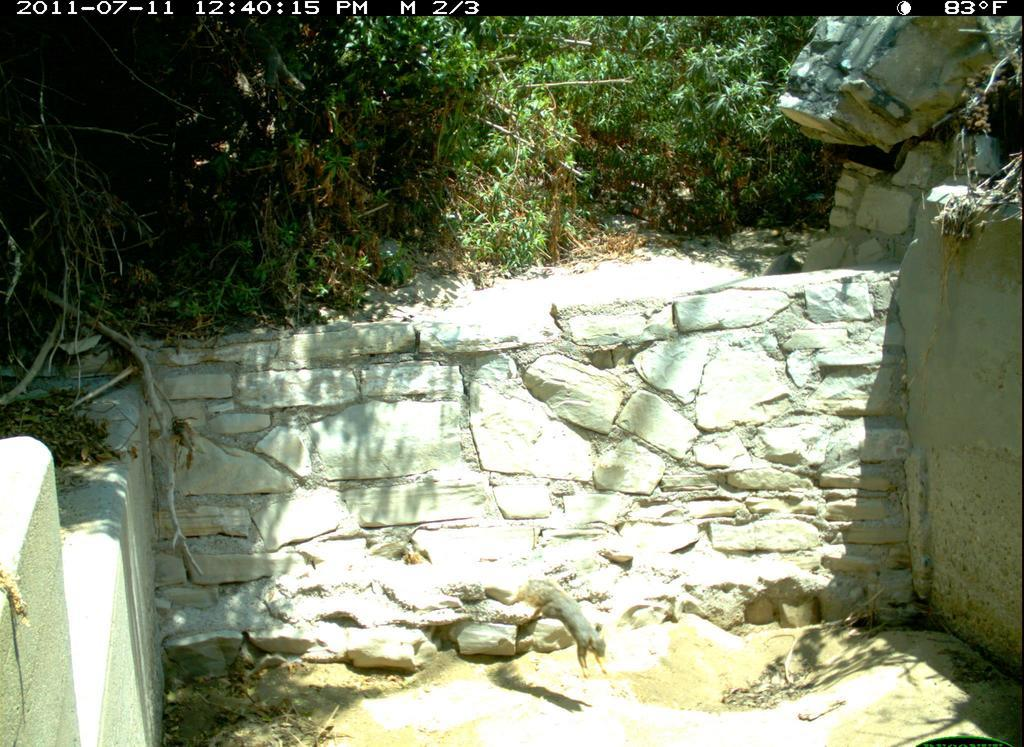squirrel: (505, 573, 619, 692)
